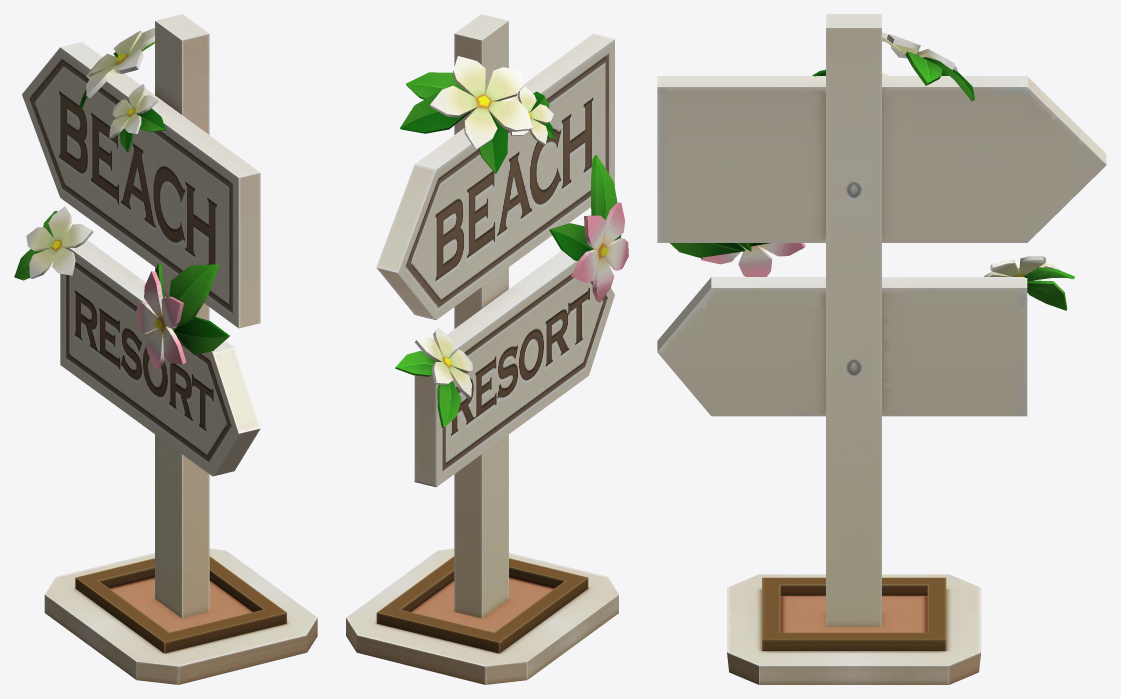
File: my_sunshineresort_01_signboard_01.glb
3 renders of one model, left to right at view 1: azimuth 30°, elevation 25°; view 2: azimuth 150°, elevation 25°; view 3: azimuth 270°, elevation 25°, orthographic. The views are drawn at different scales.
Parts seen in each view (by area): view 1: my_sunshineresort_01_signboard_01; view 2: my_sunshineresort_01_signboard_01; view 3: my_sunshineresort_01_signboard_01.
Boxes of the visible parts, bbox=[...] form: my_sunshineresort_01_signboard_01: bbox=[14, 14, 317, 684]; my_sunshineresort_01_signboard_01: bbox=[346, 14, 628, 684]; my_sunshineresort_01_signboard_01: bbox=[657, 14, 1106, 684].
Size of the model in its own units: 0.00276 by 0.00868 by 0.00572.
Materials: 1 (1 with a texture image).
